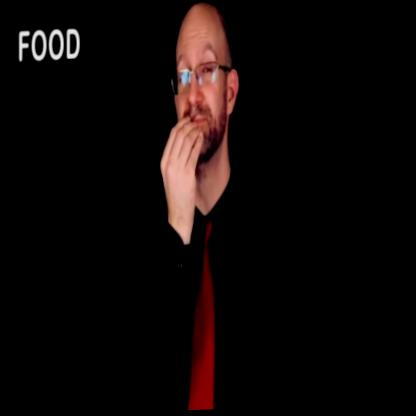Food: (130, 0, 290, 413)
